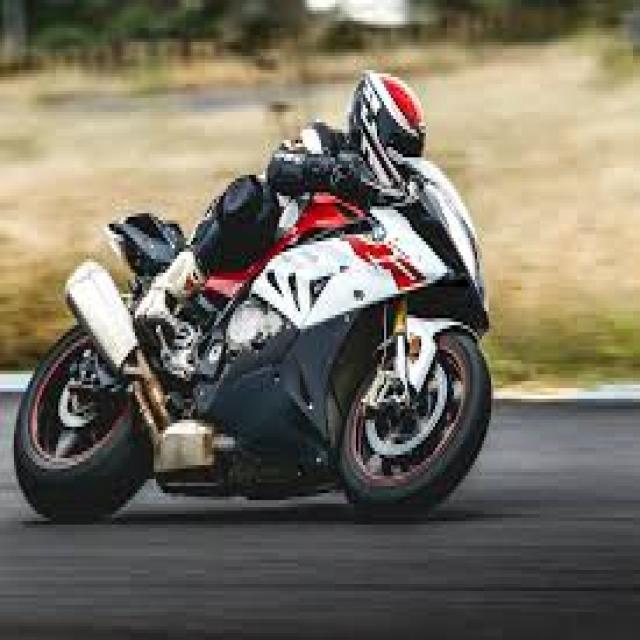Bike: (14, 148, 492, 526)
